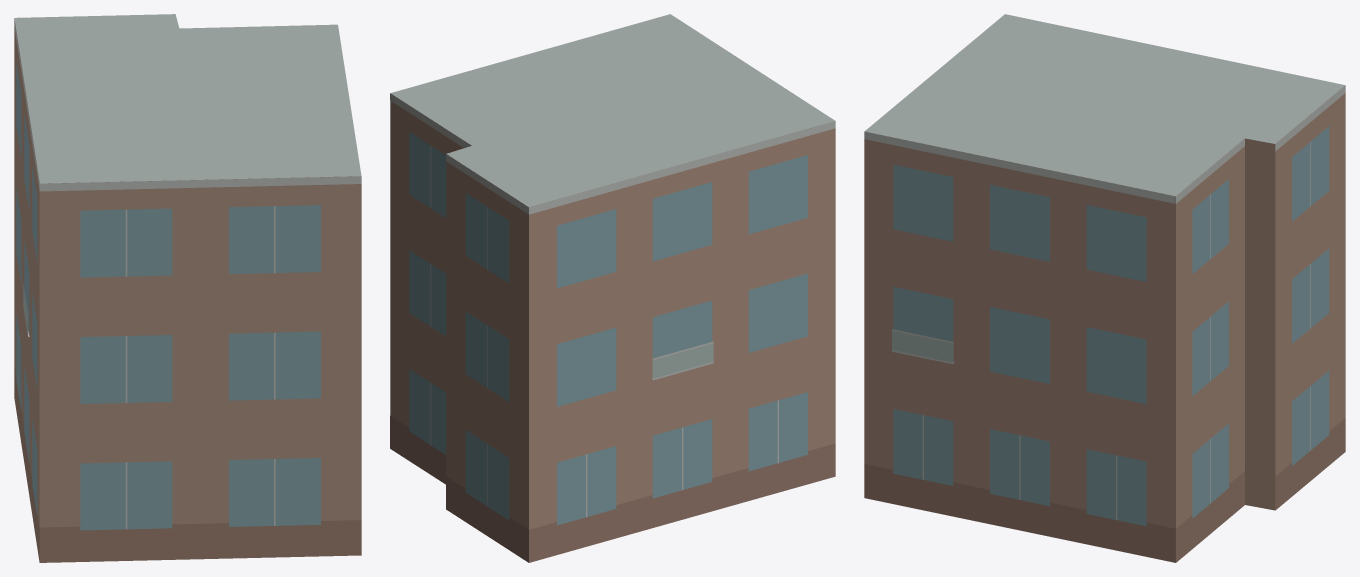
Rendered from survey-upis-32472030.glb.
3 renders of one model, left to right at view 1: azimuth 30°, elevation 25°; view 2: azimuth 150°, elevation 25°; view 3: azimuth 270°, elevation 25°, orthographic. The views are drawn at different scales.
Visible parts, largest first — view 1: survey-upis-32472030.tmp; view 2: survey-upis-32472030.tmp; view 3: survey-upis-32472030.tmp.
Boxes of the visible parts, box(x1,y1,x2,y2) form: survey-upis-32472030.tmp: box(14, 14, 361, 562); survey-upis-32472030.tmp: box(390, 14, 835, 562); survey-upis-32472030.tmp: box(864, 14, 1345, 562).
Bounding box in the file's own units: 12.6 × 11.8 × 14.05.
